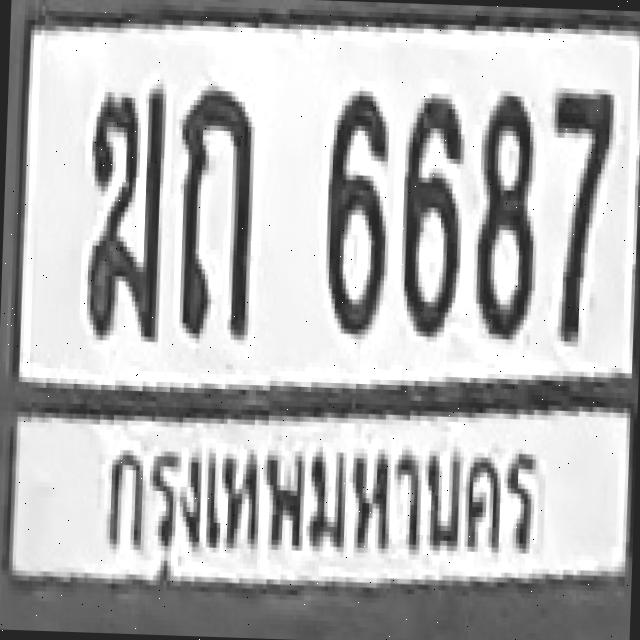15KhorRaKhang: (82, 84, 166, 339)
31ThorThung: (173, 85, 257, 340)
6: (321, 87, 392, 337), (396, 95, 464, 335)
7: (543, 88, 614, 342)
8: (471, 90, 538, 335)
Bangkok: (93, 416, 556, 594)
